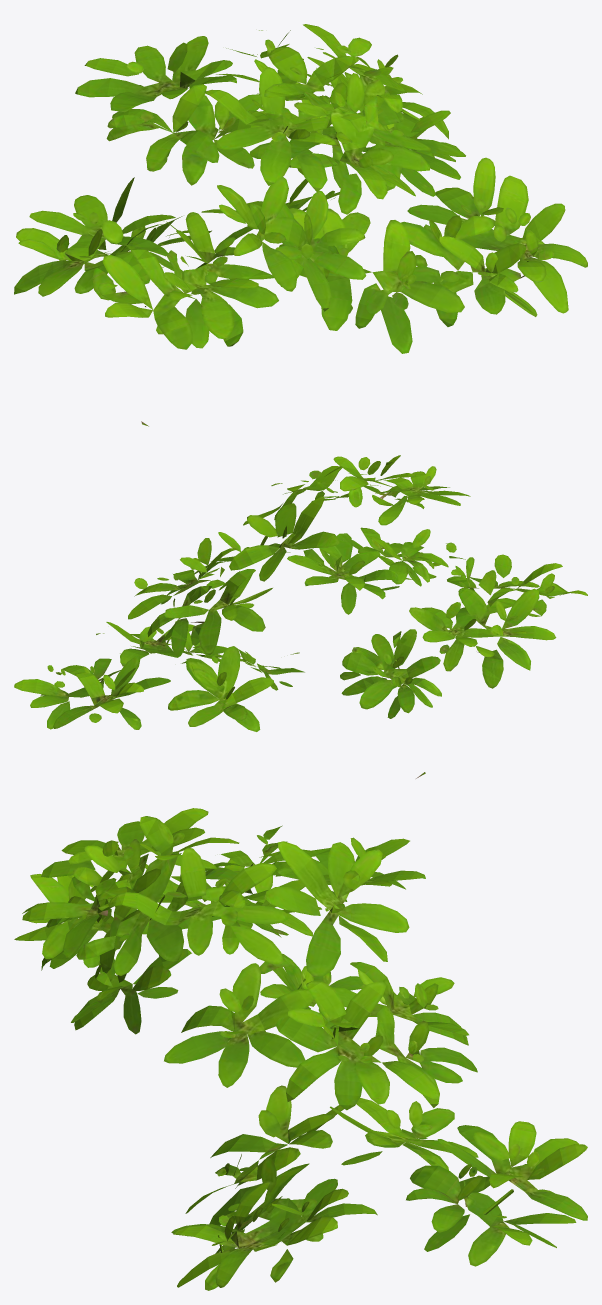
File: leaf_sp.glb
3 renders of one model, top to bottom at view 1: azimuth 30°, elevation 25°; view 2: azimuth 150°, elevation 25°; view 3: azimuth 270°, elevation 25°, orthographic. The views are drawn at different scales.
Visible parts, largest first — view 1: geometry_0; view 2: geometry_0; view 3: geometry_0.
Part boxes in pixels (<box>): geometry_0: <box>14,24,587,426</box>; geometry_0: <box>14,455,587,778</box>; geometry_0: <box>14,808,587,1290</box>.
Bounding box in the file's own units: 0.364 × 0.2245 × 0.3078.
Materials: 1 (1 with a texture image).
